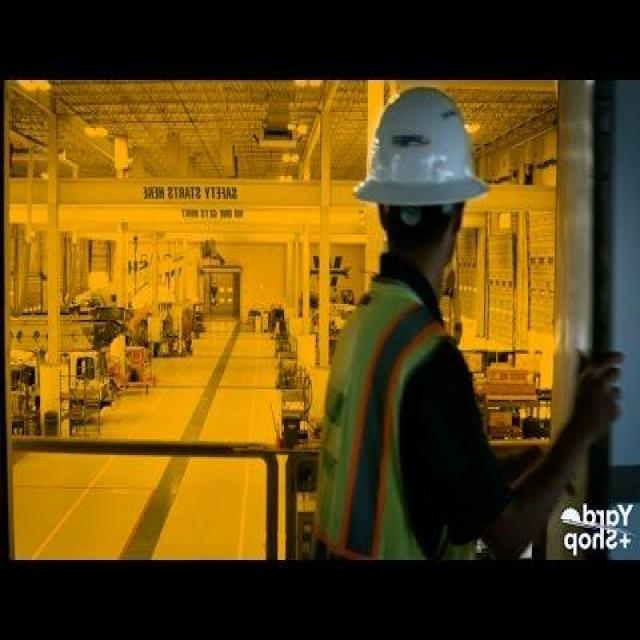Reflective-Jacket: (300, 270, 485, 576)
Safety-Helmet: (348, 84, 497, 222)
